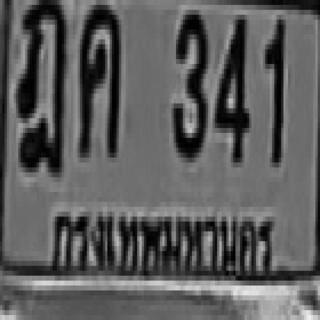A04: (78, 0, 119, 152)
A14: (17, 0, 65, 172)
N01: (263, 15, 284, 162)
N03: (171, 5, 206, 158)
N04: (213, 10, 247, 162)
P04: (47, 196, 275, 288)
